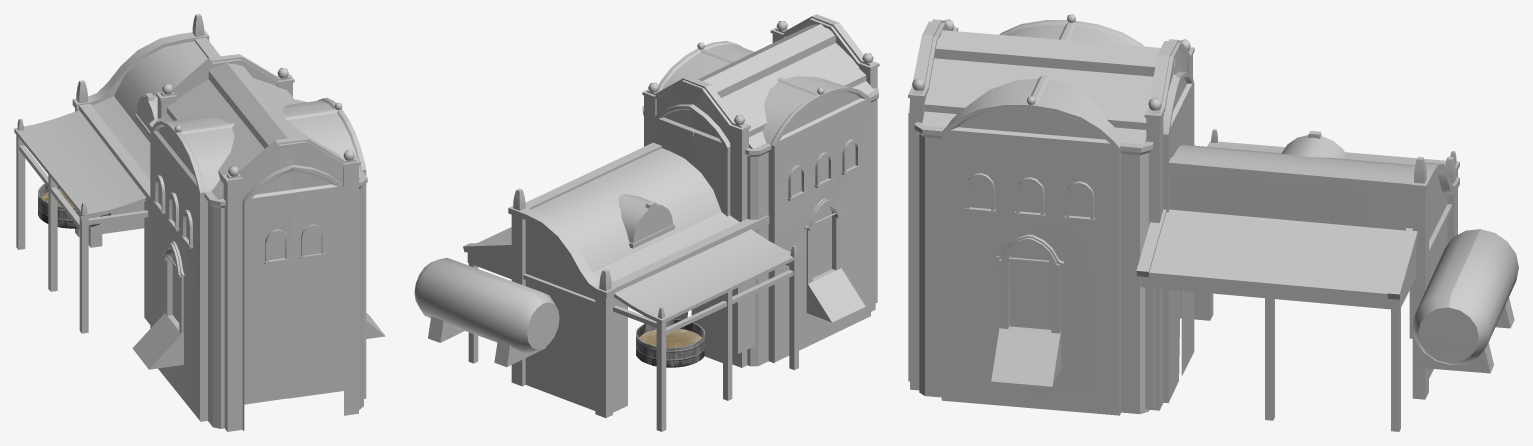
The model's file is cheese_dairy.gltf.
3 renders of one model, left to right at view 1: azimuth 30°, elevation 25°; view 2: azimuth 150°, elevation 25°; view 3: azimuth 270°, elevation 25°, orthographic. The views are drawn at different scales.
Parts seen in each view (by area): view 1: _dairy_lod0; view 2: _dairy_lod0; view 3: _dairy_lod0.
Boxes of the visible parts, left/top/right/bottom form: _dairy_lod0: left=14, top=14, right=385, bottom=431; _dairy_lod0: left=414, top=14, right=879, bottom=431; _dairy_lod0: left=908, top=14, right=1518, bottom=431.
Size of what is drawn, in the model's own units: 2.31 by 2.11 by 3.55.
